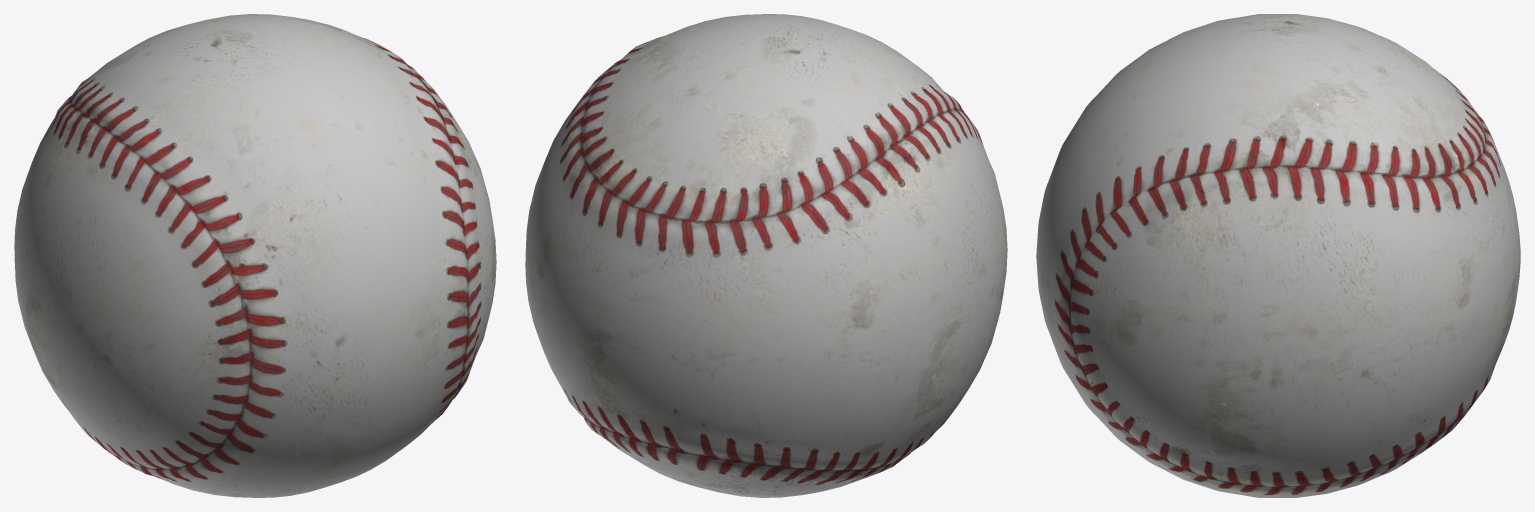
The model's file is baseball.glb.
3 renders of one model, left to right at view 1: azimuth 30°, elevation 25°; view 2: azimuth 150°, elevation 25°; view 3: azimuth 270°, elevation 25°, orthographic.
Parts seen in each view (by area): view 1: baseball_01_0; view 2: baseball_01_0; view 3: baseball_01_0.
Boxes of the visible parts, <box> form: baseball_01_0: <box>14,14,496,497</box>; baseball_01_0: <box>525,14,1007,497</box>; baseball_01_0: <box>1036,14,1520,497</box>.
Size of the model in its own units: 0.074 by 0.0756 by 0.0754.
Materials: 1 (1 with a texture image).
